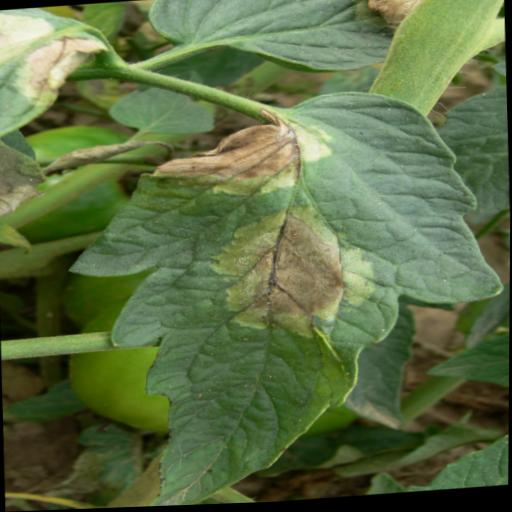Late Blight: (57, 81, 509, 510)
